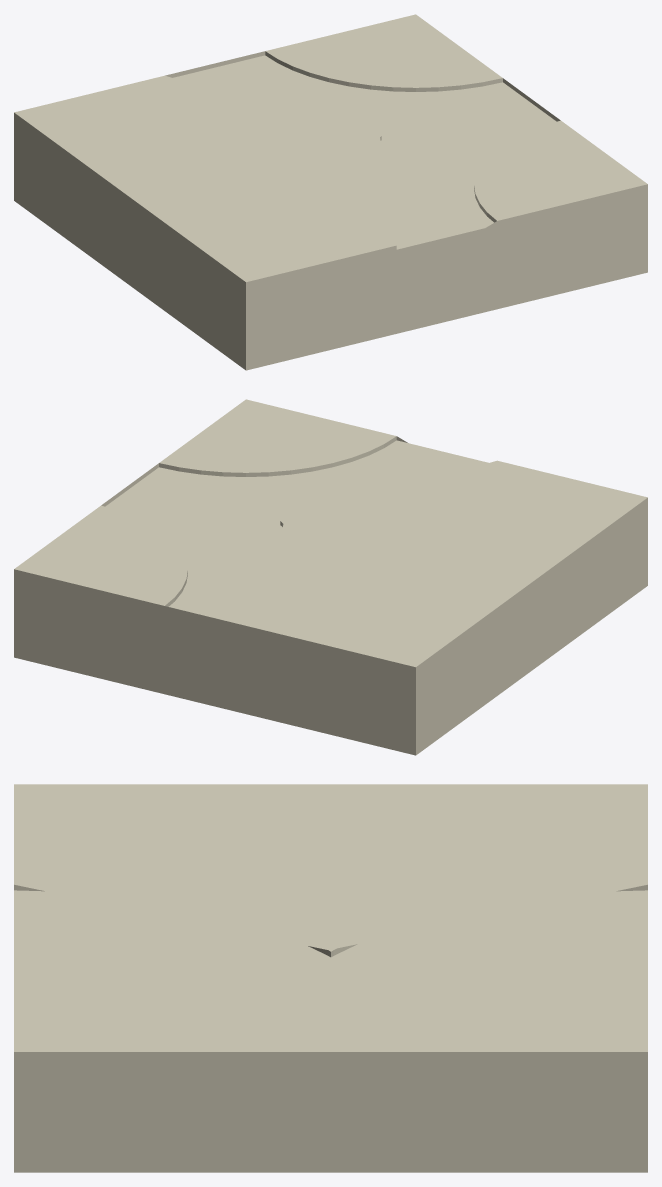
The model's file is roadtile_287.glb.
3 renders of one model, top to bottom at view 1: azimuth 30°, elevation 25°; view 2: azimuth 150°, elevation 25°; view 3: azimuth 270°, elevation 25°, orthographic. The views are drawn at different scales.
Parts seen in each view (by area): view 1: Mesh1 Group1 Model; view 2: Mesh1 Group1 Model; view 3: Mesh1 Group1 Model.
Boxes of the visible parts, x1,y1,x2,y2 form: Mesh1 Group1 Model: (14, 14, 647, 370); Mesh1 Group1 Model: (14, 399, 647, 755); Mesh1 Group1 Model: (14, 784, 647, 1172).
Bounding box in the file's own units: 3 × 0.63 × 3.
